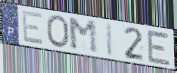2: (123, 27, 146, 62)
E: (146, 28, 172, 68), (21, 10, 45, 46)
I: (105, 21, 115, 58)
M: (67, 16, 100, 55)
O: (46, 14, 70, 49)
